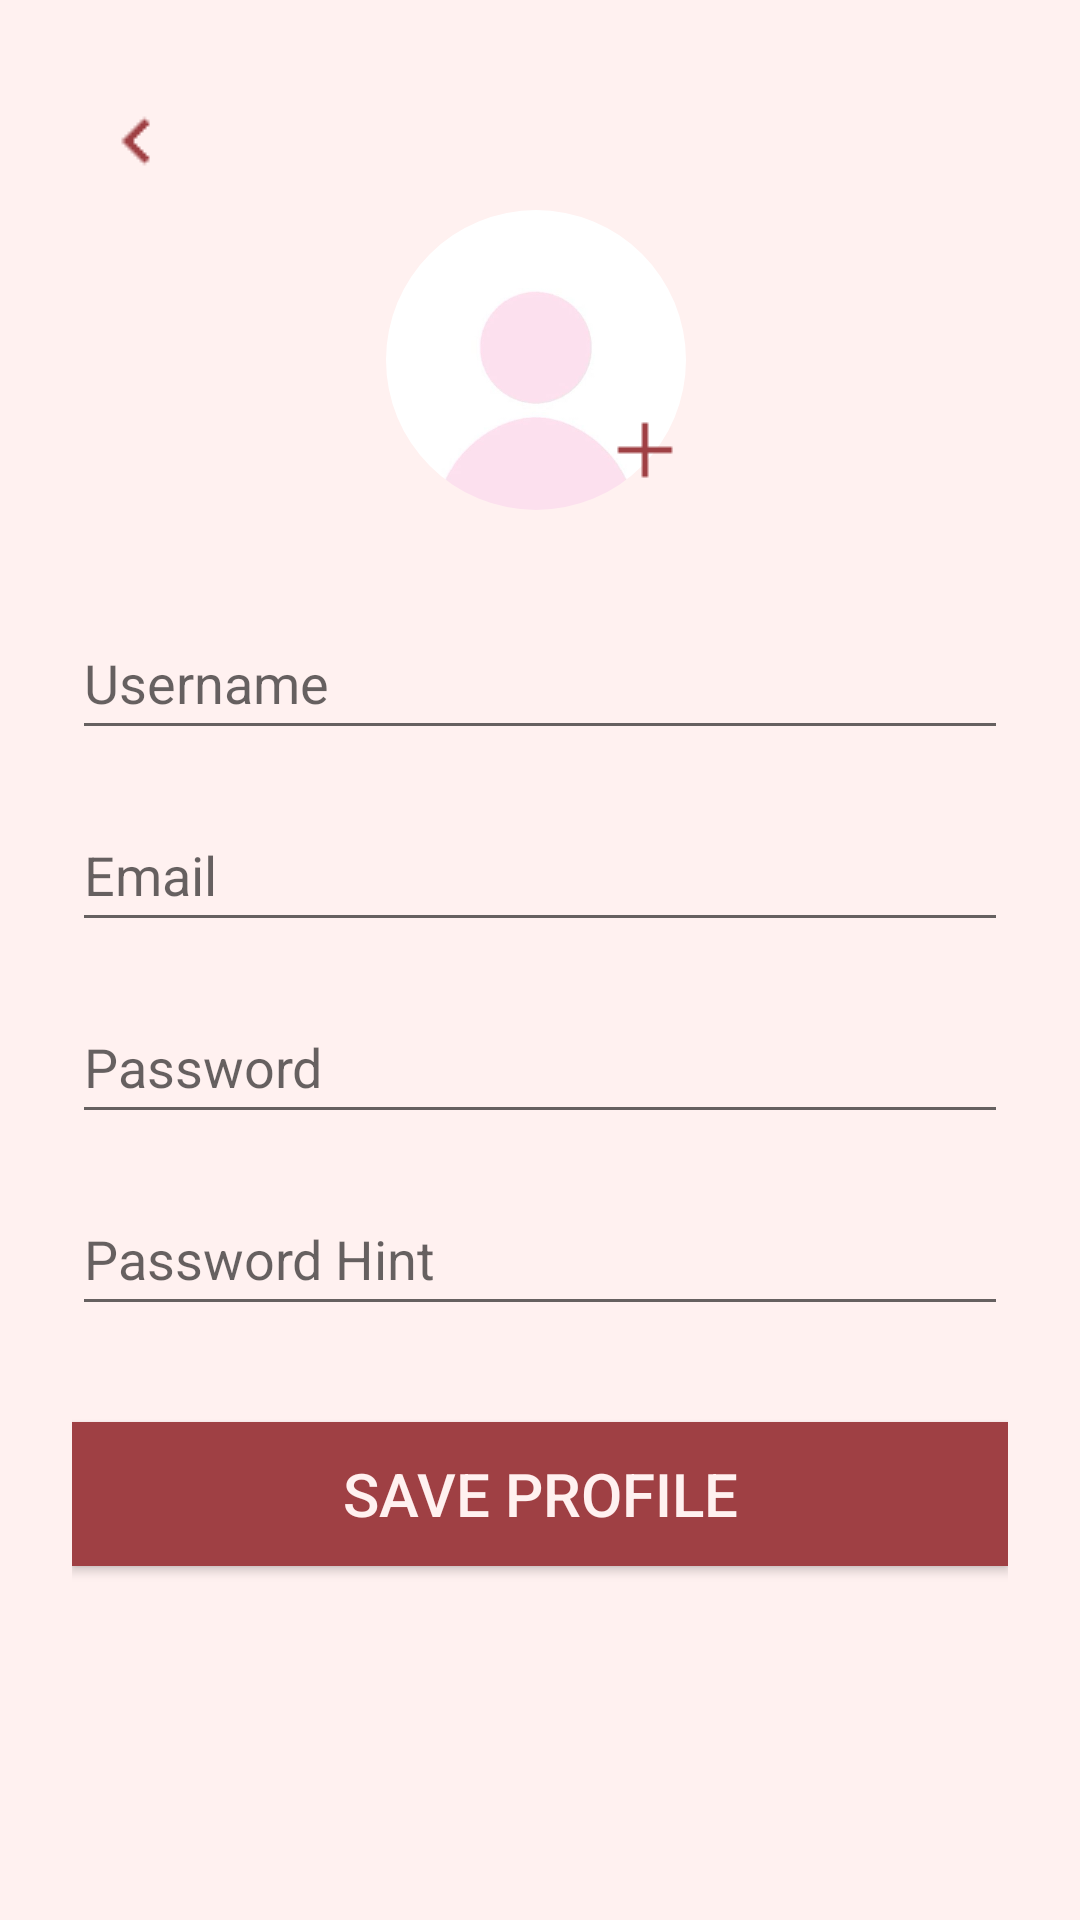

Icons on this 1080 × 1920 Android screen, each with its box as (x1, y1, x2, y2):
back: (121, 117, 150, 165)
